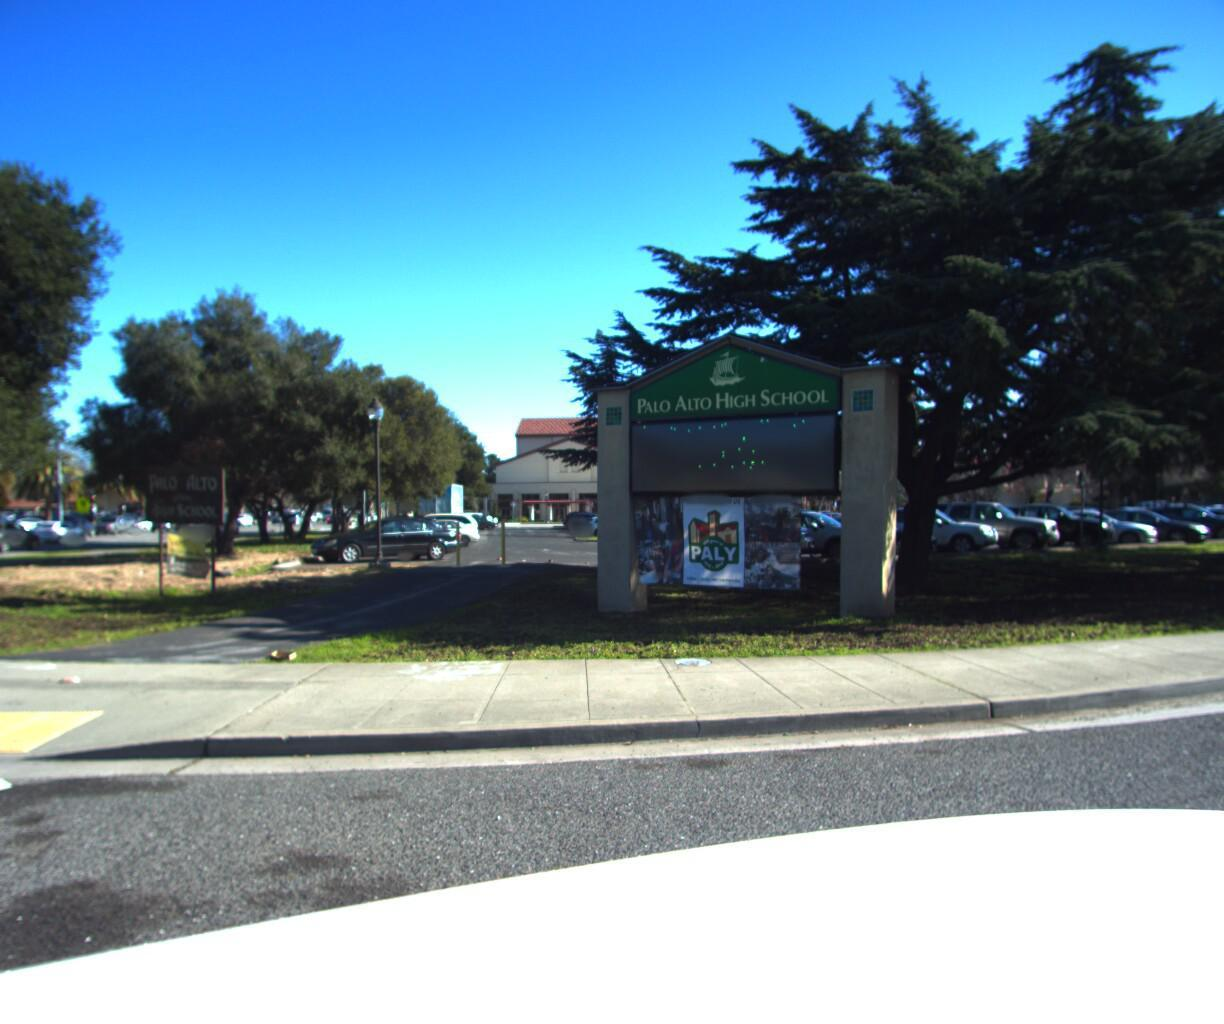car: (0, 509, 49, 547), (26, 514, 91, 538)
